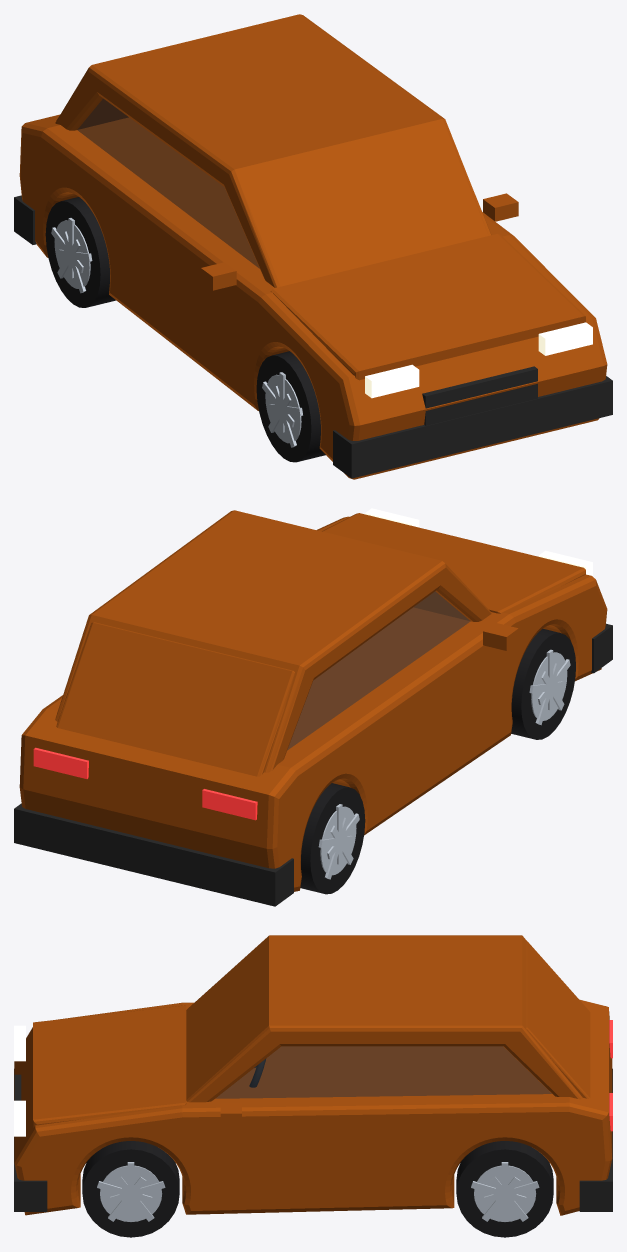
Rendered from Hatchback.glb.
3 views of the same model, one above another, from view 1: azimuth 30°, elevation 25°; view 2: azimuth 150°, elevation 25°; view 3: azimuth 270°, elevation 25° (orthographic). The views are drawn at different scales.
Parts seen in each view (by area): view 1: BodyRoofPanel, BodyPanels, BodyHood, BodyFrontBumper, BodyWindshield, TireFrontR, BodyFrontGrille, TireRearR, BodyHeadlightL, BodyHeadlightR, WheelFrontRRim, WheelRearRRim (+3 smaller); view 2: BodyPanels, BodyRoofPanel, BodyRearPanels, BodyRearBumper, BodyHood, BodyWindshield, TireFrontR, TireRearR, BodyTaillightL, BodyTaillightR, WheelFrontRRim, WheelRearRRim (+2 smaller); view 3: BodyPanels, BodyRoofPanel, BodyHood, BodyWindshield, BodyRearPanels, TireRearL, TireFrontL, WheelFrontLRim, WheelRearLRim, BodyRearBumper, BodyFrontBumper, BodyDoorLMirror (+2 smaller).
Boxes of the visible parts, x1=… form: BodyRoofPanel: x1=55, y1=14, x2=491, y2=287; BodyPanels: x1=19, y1=114, x2=607, y2=479; BodyHood: x1=270, y1=234, x2=585, y2=380; BodyFrontBumper: x1=333, y1=376, x2=612, y2=478; BodyWindshield: x1=77, y1=98, x2=259, y2=268; TireFrontR: x1=256, y1=351, x2=325, y2=462; BodyFrontGrille: x1=422, y1=366, x2=537, y2=425; TireRearR: x1=45, y1=197, x2=115, y2=307; BodyHeadlightL: x1=538, y1=322, x2=592, y2=355; BodyHeadlightR: x1=365, y1=364, x2=419, y2=398; WheelFrontRRim: x1=265, y1=374, x2=301, y2=443; WheelRearRRim: x1=54, y1=220, x2=90, y2=288; BodyPanels: x1=19, y1=516, x2=607, y2=891; BodyRoofPanel: x1=55, y1=510, x2=491, y2=772; BodyRearPanels: x1=56, y1=622, x2=294, y2=776; BodyRearBumper: x1=14, y1=803, x2=293, y2=906; BodyHood: x1=322, y1=513, x2=585, y2=613; BodyWindshield: x1=287, y1=591, x2=470, y2=749; TireFrontR: x1=511, y1=629, x2=575, y2=739; TireRearR: x1=300, y1=783, x2=365, y2=894; BodyTaillightL: x1=33, y1=747, x2=88, y2=778; BodyTaillightR: x1=202, y1=789, x2=257, y2=820; WheelFrontRRim: x1=531, y1=652, x2=567, y2=720; WheelRearRRim: x1=320, y1=806, x2=356, y2=875; BodyPanels: x1=14, y1=999, x2=612, y2=1215; BodyRoofPanel: x1=186, y1=935, x2=582, y2=1102; BodyHood: x1=33, y1=1005, x2=186, y2=1127; BodyWindshield: x1=216, y1=1046, x2=551, y2=1098; BodyRearPanels: x1=526, y1=941, x2=590, y2=1098; TireRearL: x1=456, y1=1141, x2=553, y2=1237; TireFrontL: x1=82, y1=1141, x2=179, y2=1237; WheelFrontLRim: x1=100, y1=1165, x2=162, y2=1221; WheelRearLRim: x1=474, y1=1165, x2=536, y2=1221; BodyRearBumper: x1=579, y1=1068, x2=612, y2=1211; BodyFrontBumper: x1=14, y1=1069, x2=47, y2=1211; BodyDoorLMirror: x1=220, y1=1103, x2=241, y2=1125.
Bounding box in the file's own units: 2.06 × 1.45 × 3.94.
